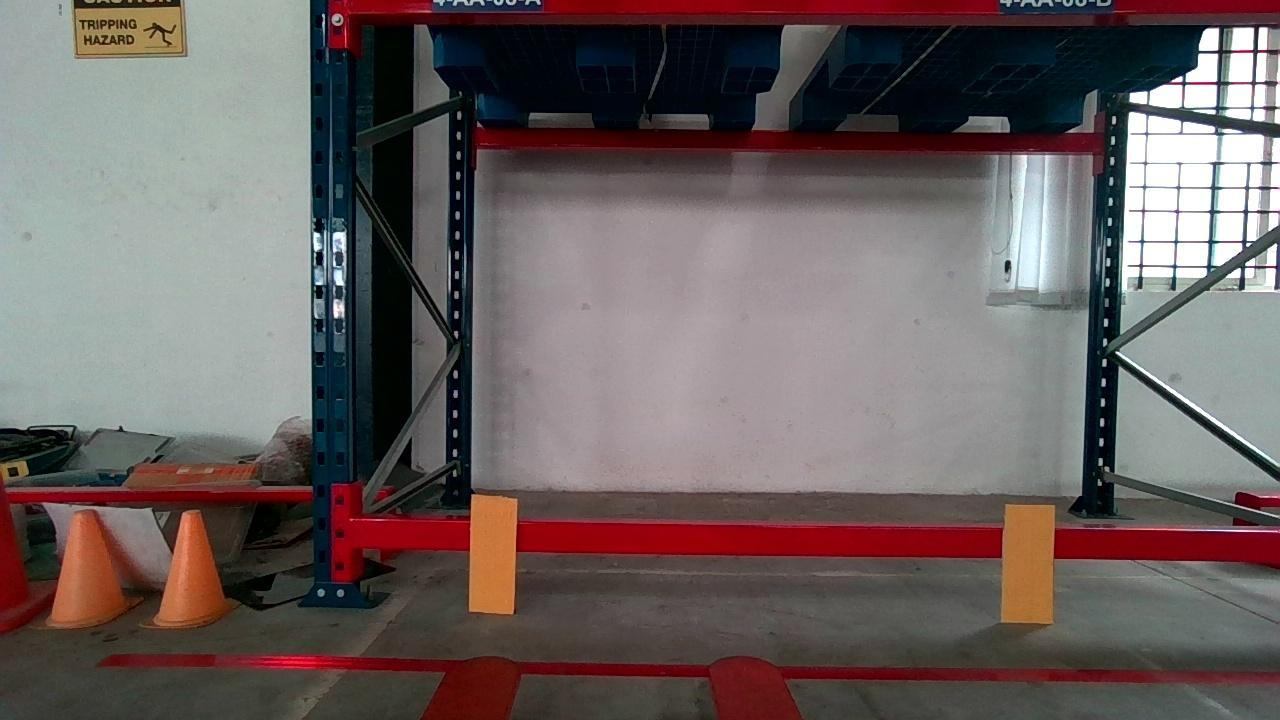h_rack: (356, 516, 1280, 562), (336, 0, 1280, 23)
orange_strip: (999, 504, 1057, 624), (468, 495, 521, 618)
